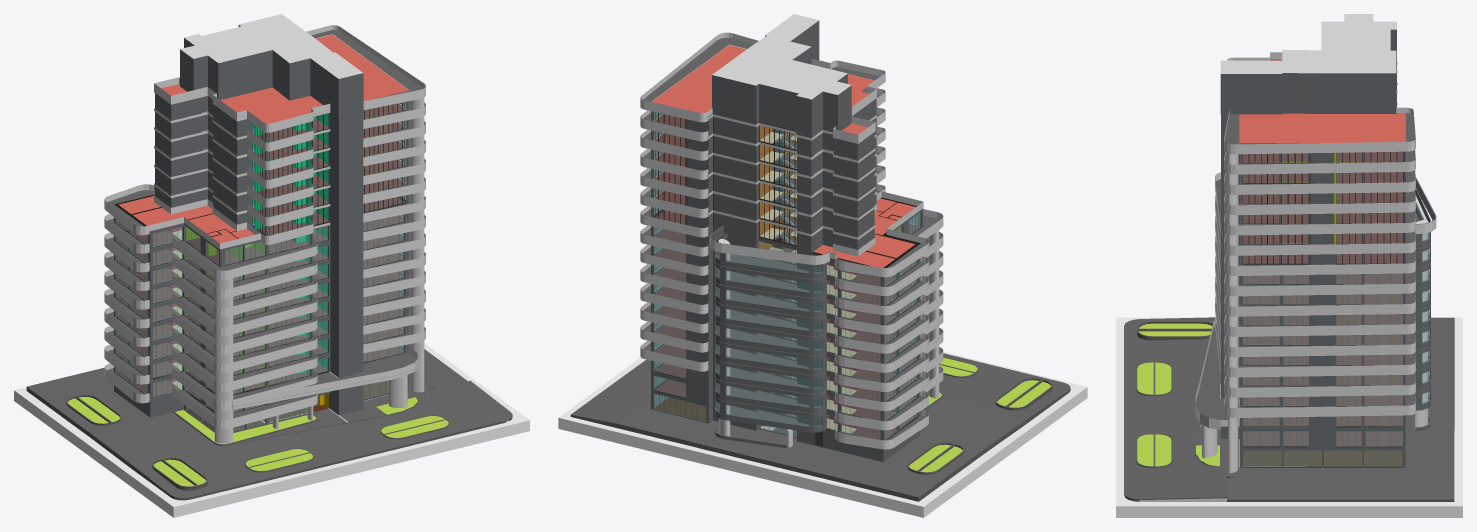
3 views of the same model, side by side, from view 1: azimuth 30°, elevation 25°; view 2: azimuth 150°, elevation 25°; view 3: azimuth 270°, elevation 25° (orthographic). The views are drawn at different scales.
Visible parts, largest first — view 1: BALCONEY FRONT 1, first floor material.003, upper-floor.001, upper-floor, mullion-upper floor, first floor material, Cube, BALCONEY FRONT 1.001, BALCONEY 3, Plane.018, BALCONEY 2.001, BALCONEY 2 (+9 smaller); view 2: BALCONEY WALL, upper-floor.001, BALCONEY FRONT 1, first floor material.003, upper-floor, BALCONEY 3, mullion-upper floor, first floor material, Cube, BALCONEY 2.001, BALCONEY FRONT 1.001, BALCONEY 2 (+15 smaller); view 3: first floor material.003, BALCONEY 2.001, BALCONEY FRONT 1, BALCONEY 2, first floor material, Plane.018, mullion-upper floor, upper-floor.001, Cube, upper-floor, BALCONEY WALL, ground floor material (+15 smaller).
Boxes of the visible parts, box(x1,y1,x2,y2) form: BALCONEY FRONT 1: box(26, 238, 512, 500); first floor material.003: box(161, 14, 408, 216); upper-floor.001: box(155, 93, 408, 235); upper-floor: box(114, 150, 408, 413); mullion-upper floor: box(116, 214, 404, 413); first floor material: box(118, 196, 404, 412); Cube: box(14, 343, 529, 517); BALCONEY FRONT 1.001: box(154, 77, 330, 244); BALCONEY 3: box(104, 184, 260, 403); Plane.018: box(232, 344, 467, 444); BALCONEY 2.001: box(306, 25, 425, 222); BALCONEY 2: box(363, 213, 425, 353); BALCONEY WALL: box(715, 232, 826, 448); upper-floor.001: box(651, 59, 876, 252); BALCONEY FRONT 1: box(698, 209, 1070, 501); first floor material.003: box(652, 14, 873, 207); upper-floor: box(651, 197, 923, 440); BALCONEY 3: box(829, 191, 928, 449); mullion-upper floor: box(654, 212, 920, 440); first floor material: box(655, 198, 918, 439); Cube: box(558, 352, 1087, 517); BALCONEY 2.001: box(640, 32, 758, 237); BALCONEY FRONT 1.001: box(707, 58, 885, 256); BALCONEY 2: box(640, 225, 708, 371); first floor material.003: box(1220, 14, 1405, 243); BALCONEY 2.001: box(1224, 107, 1415, 275); BALCONEY FRONT 1: box(1124, 172, 1454, 501); BALCONEY 2: box(1224, 271, 1415, 417); first floor material: box(1243, 243, 1402, 446); Plane.018: box(1136, 320, 1454, 501); mullion-upper floor: box(1243, 273, 1402, 447); upper-floor.001: box(1221, 60, 1405, 264); Cube: box(1116, 317, 1462, 517); upper-floor: box(1221, 236, 1405, 447); BALCONEY WALL: box(1405, 177, 1430, 430); ground floor material: box(1243, 450, 1402, 466).
Size of the model in its own units: 1196 by 1128 by 929.
